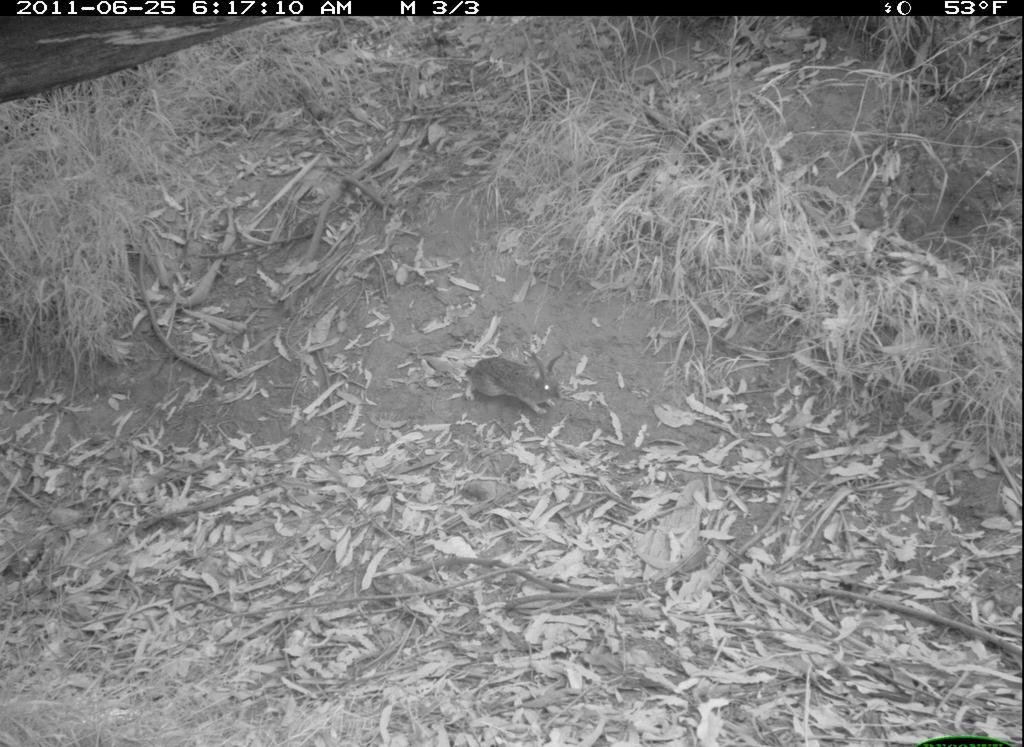rabbit: (455, 337, 580, 423)
